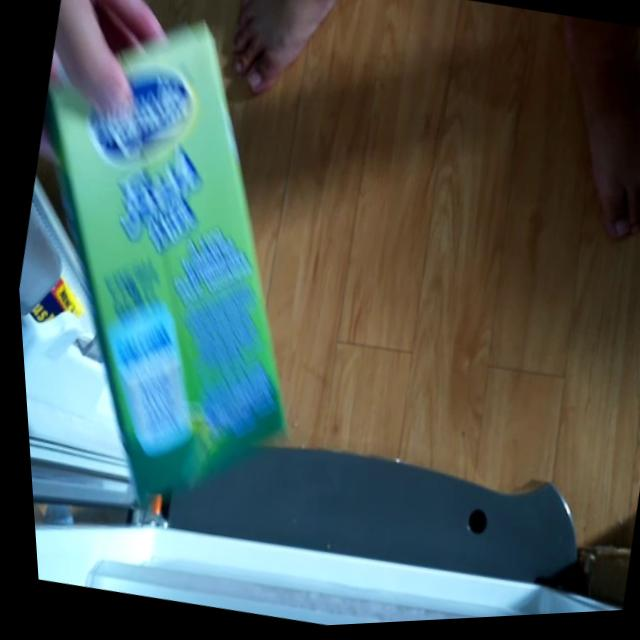milk: (0, 0, 375, 548)
